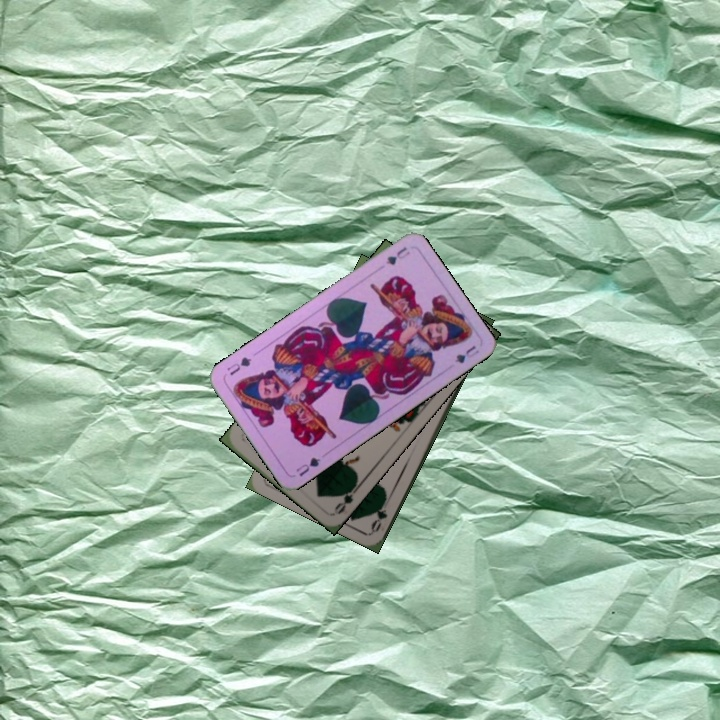GO: (330, 480, 362, 517), (367, 493, 390, 534)
GU: (292, 453, 323, 479), (382, 242, 413, 268)
